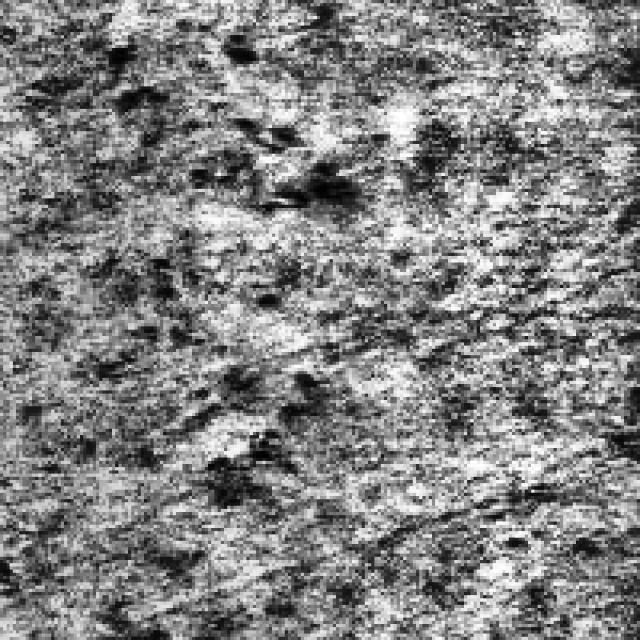Crazing: (42, 262, 324, 506), (70, 35, 352, 208)
